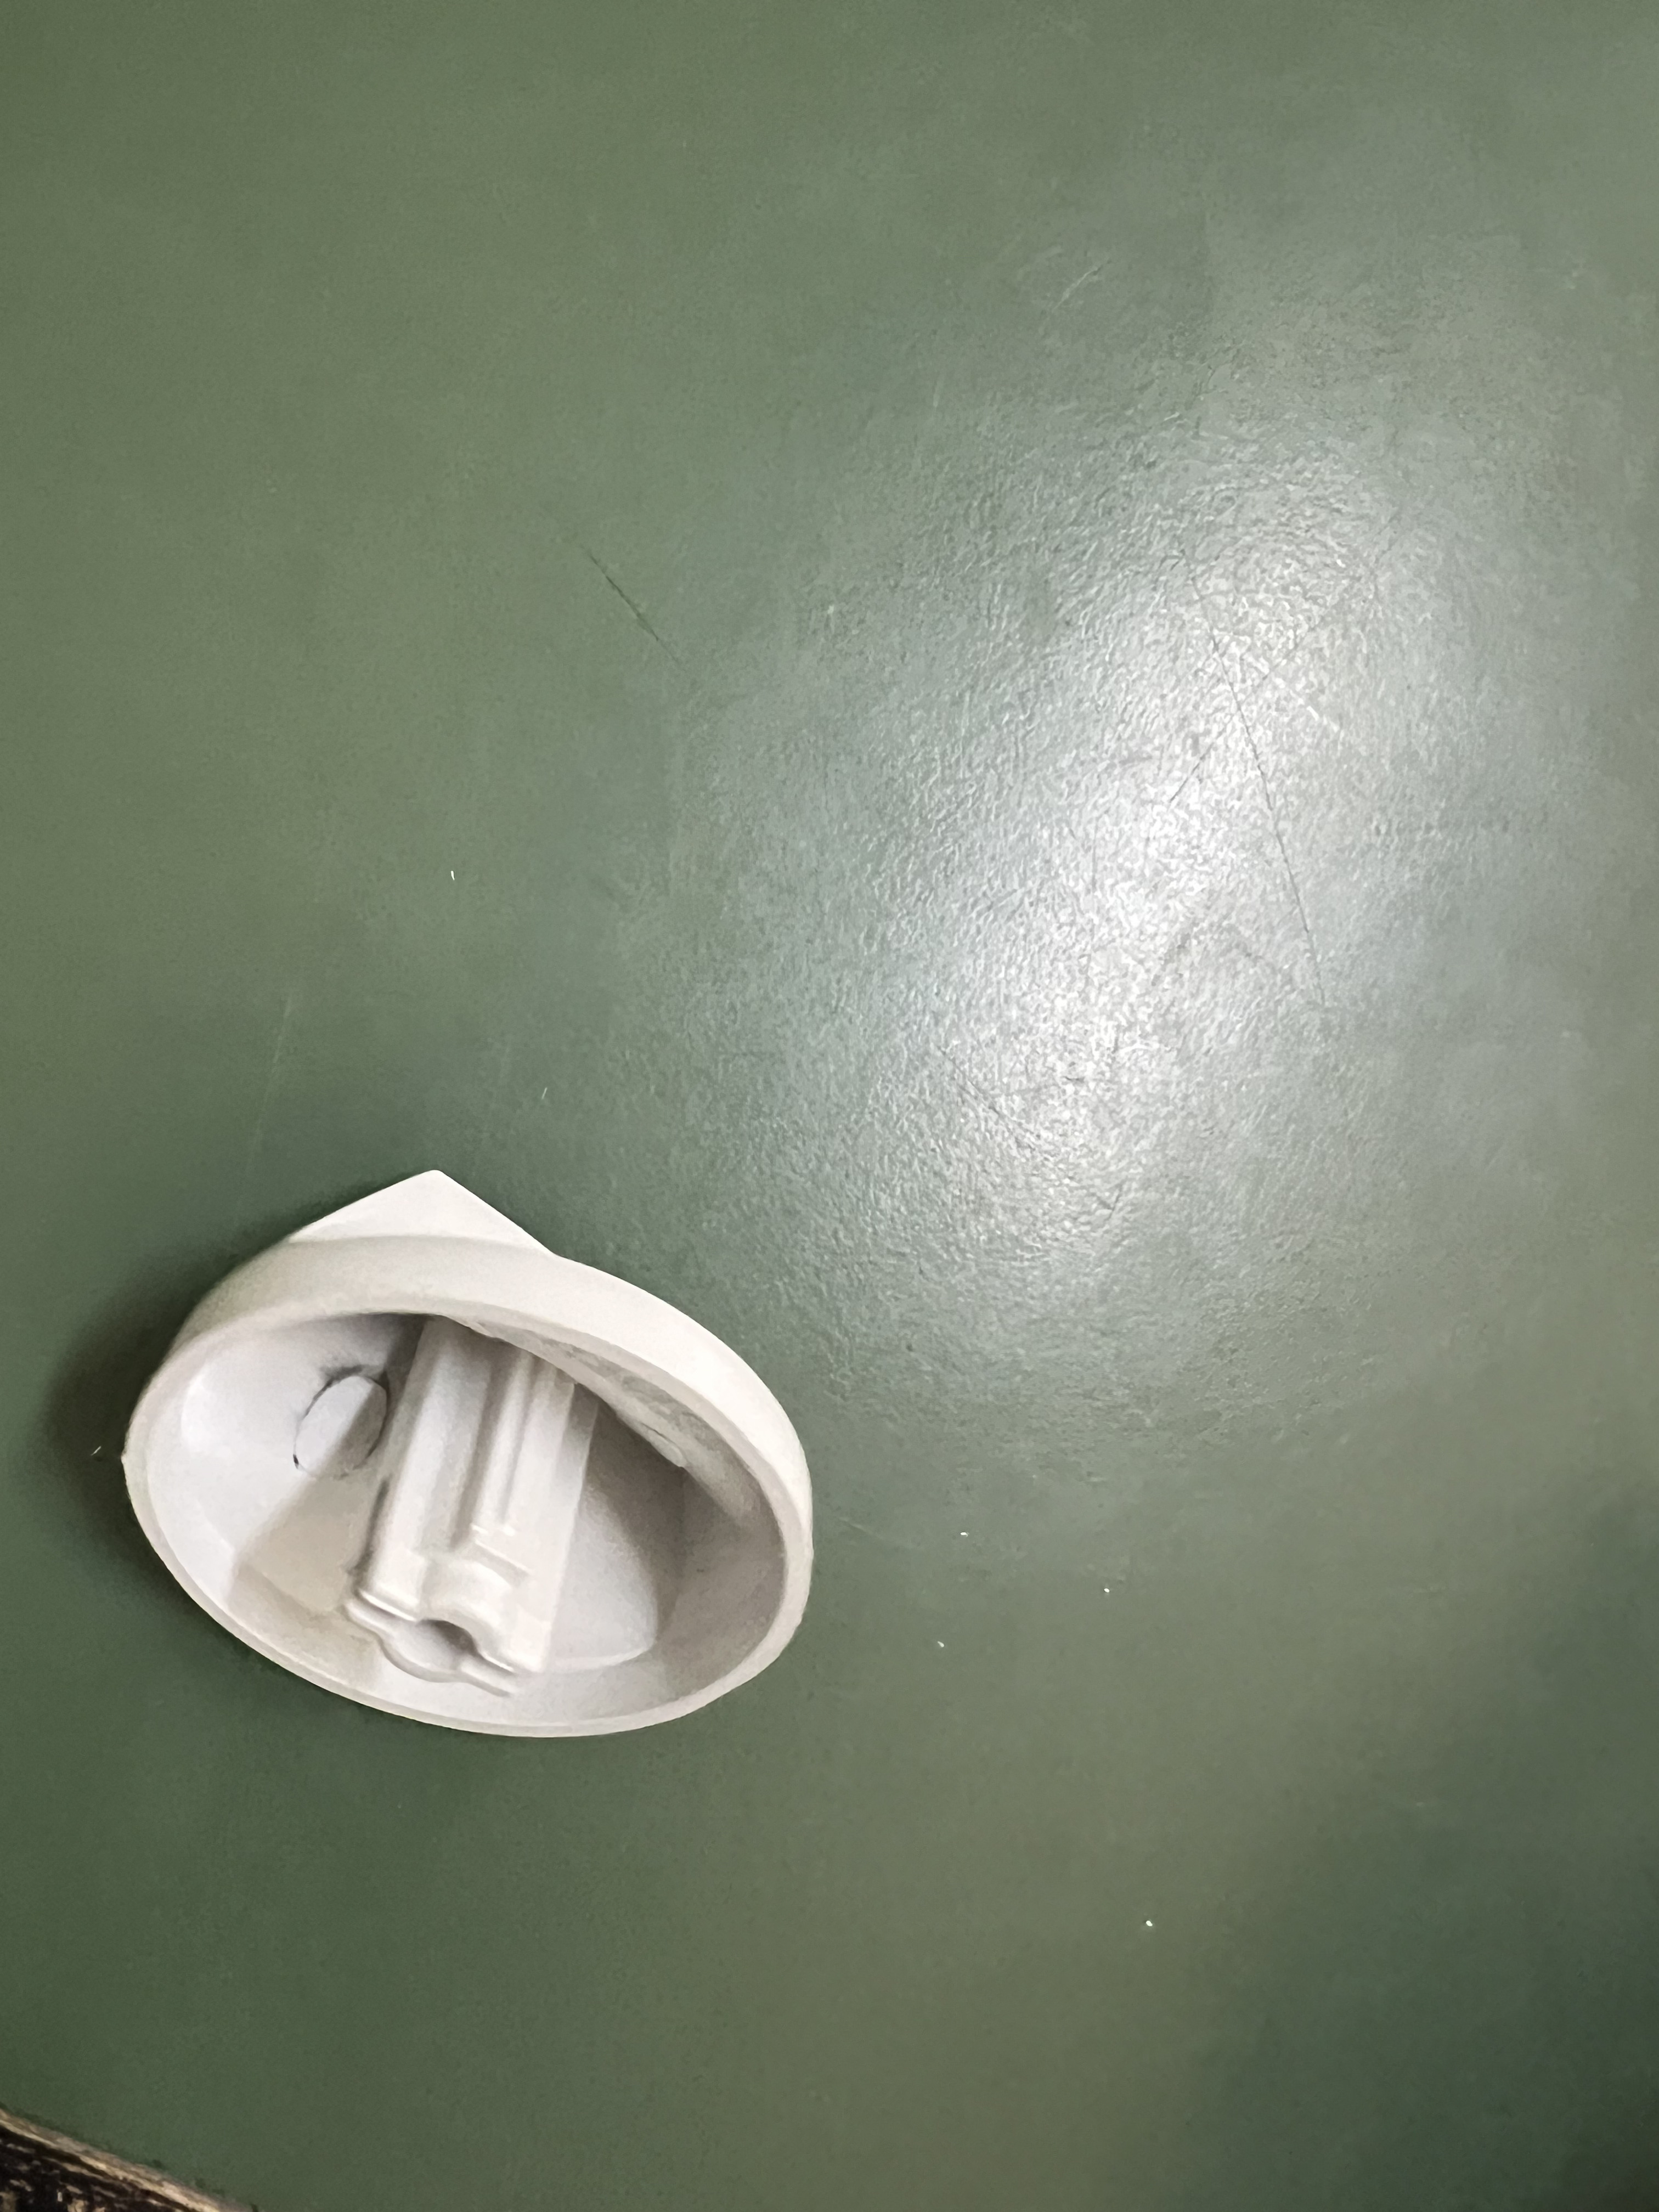regulator: (113, 1155, 816, 1749)
